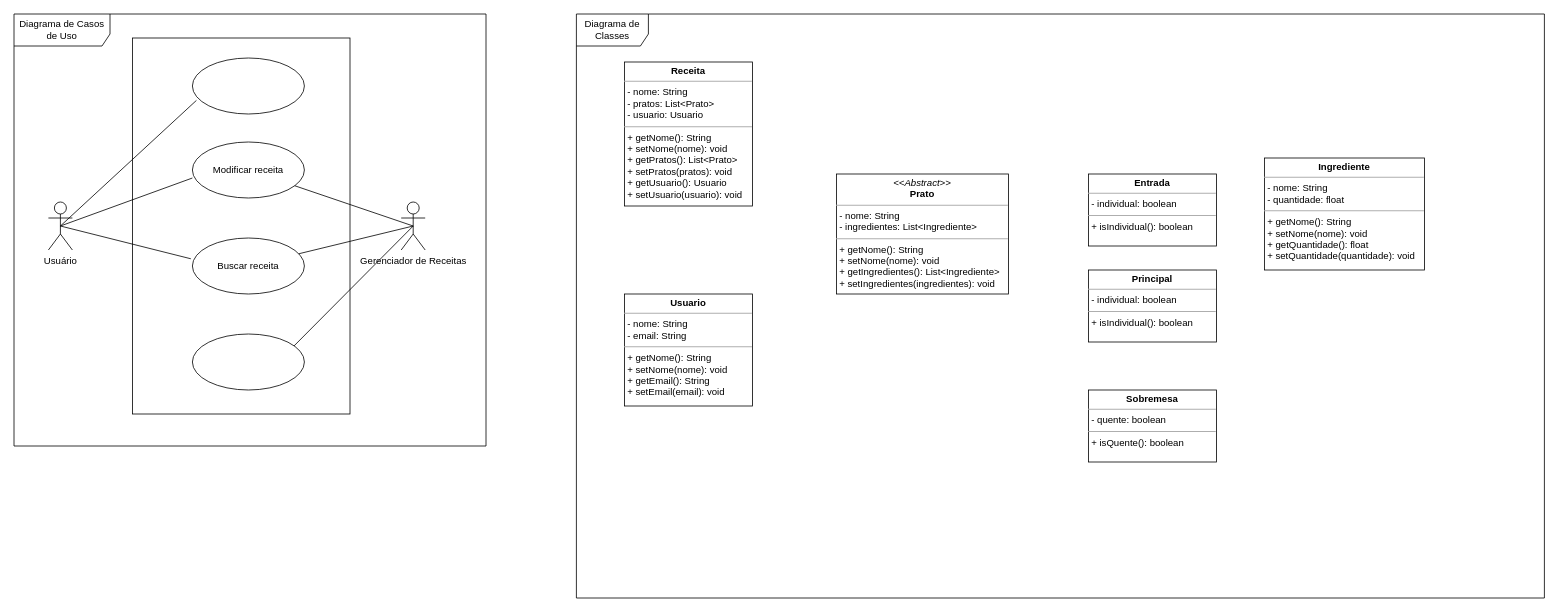
This 1558x612 diagram has some shape labels left out. Each missing label, with the centre of its shape:
"Calcular quantidade de ingredientres" belongs at point 248,361.
"Criar receita" belongs at point 248,85.
